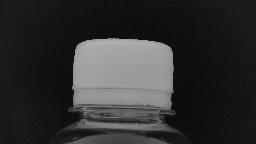Good Cap: (62, 34, 180, 120)
